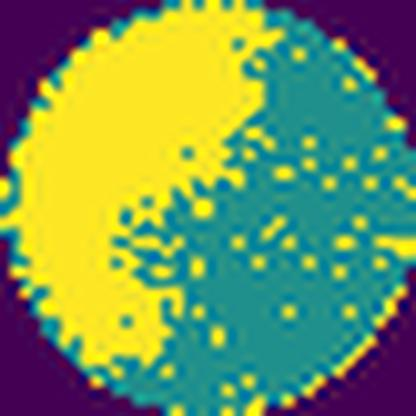Edge-Loc: (0, 2, 286, 371)
